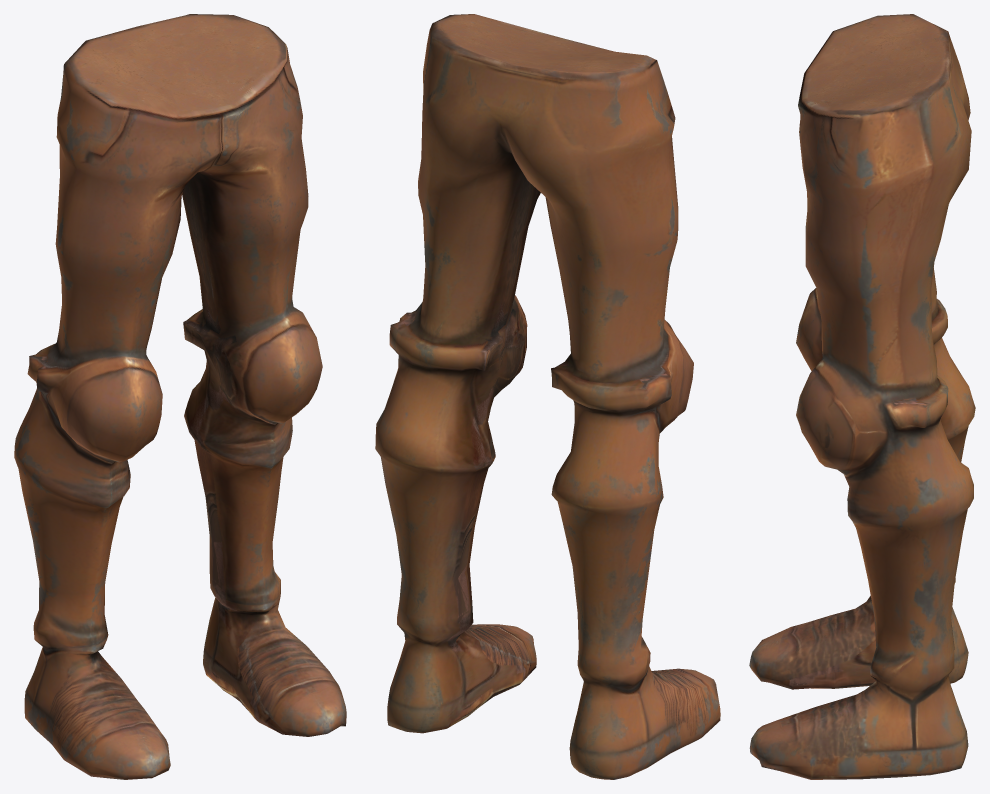
The model's file is legs-metal-01-bronze.glb.
The picture shows the model from 3 angles, left to right: view 1: azimuth 30°, elevation 25°; view 2: azimuth 150°, elevation 25°; view 3: azimuth 270°, elevation 25°; orthographic projection. The views are drawn at different scales.
Bounding box in the file's own units: 0.8389 × 2 × 0.6168.
Materials: 1 (1 with a texture image).
